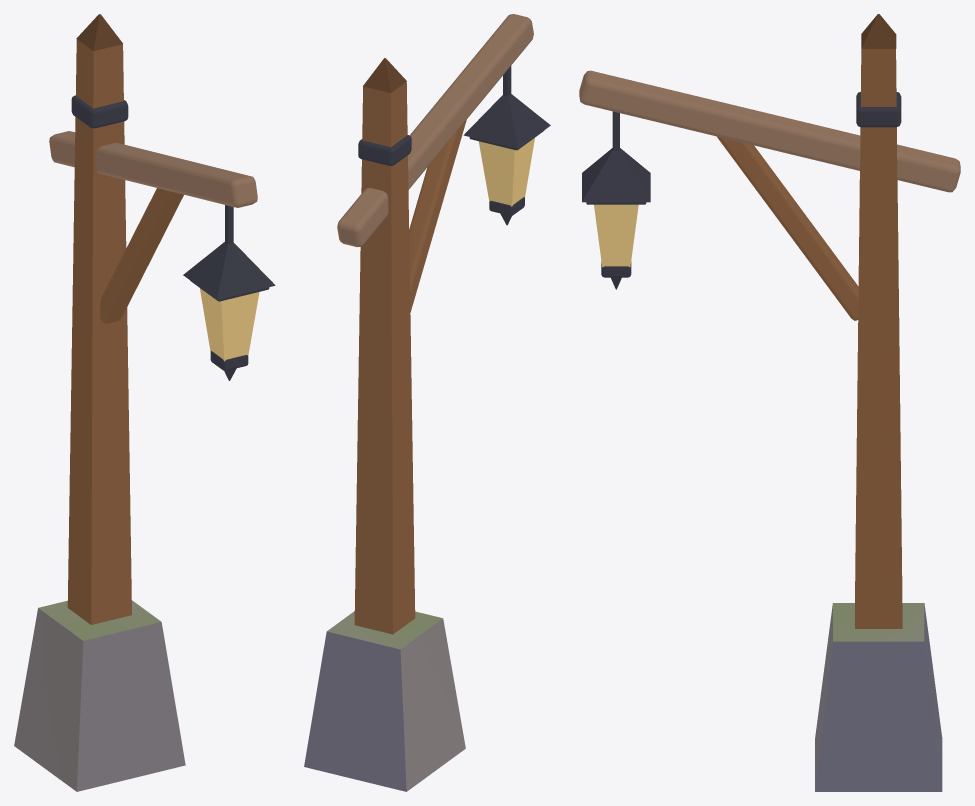
File: lamp.glb
3 renders of one model, left to right at view 1: azimuth 30°, elevation 25°; view 2: azimuth 150°, elevation 25°; view 3: azimuth 270°, elevation 25°, orthographic. The views are drawn at different scales.
Visible parts, largest first — view 1: lamp; view 2: lamp; view 3: lamp.
Boxes of the visible parts, x1=… form: lamp: x1=14, y1=14, x2=275, y2=791; lamp: x1=304, y1=14, x2=550, y2=791; lamp: x1=579, y1=14, x2=960, y2=791.
Size of the model in its own units: 0.3394 by 2.21 by 1.02.
